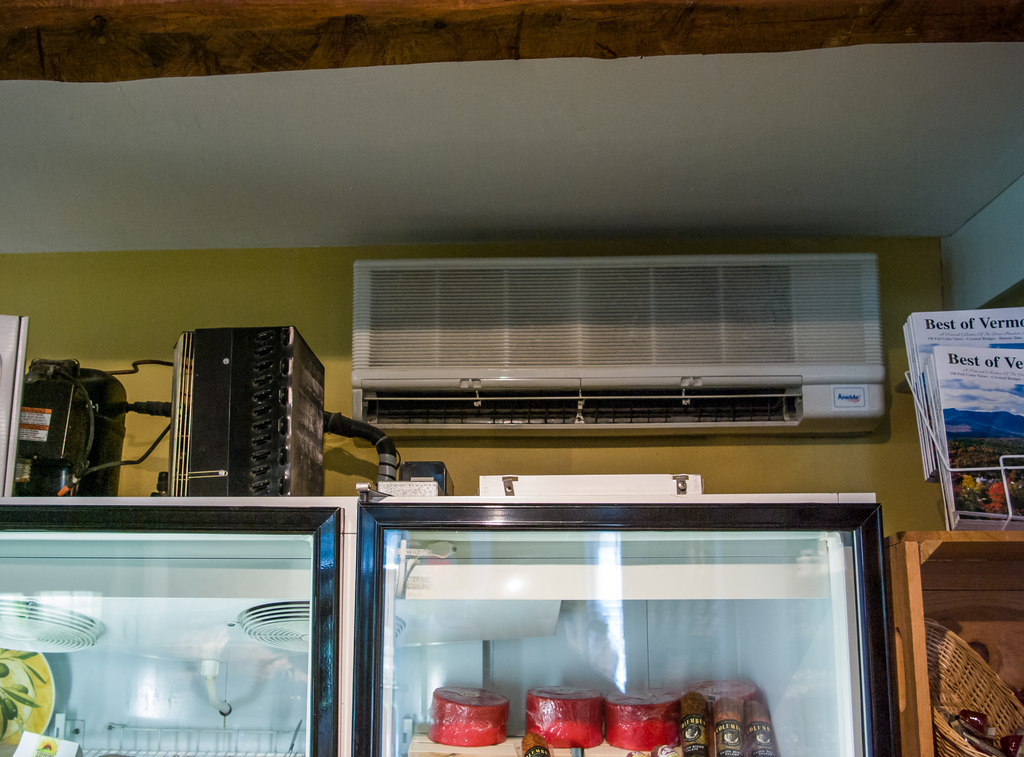refrigerator door: (370, 517, 865, 757), (0, 509, 322, 757)
